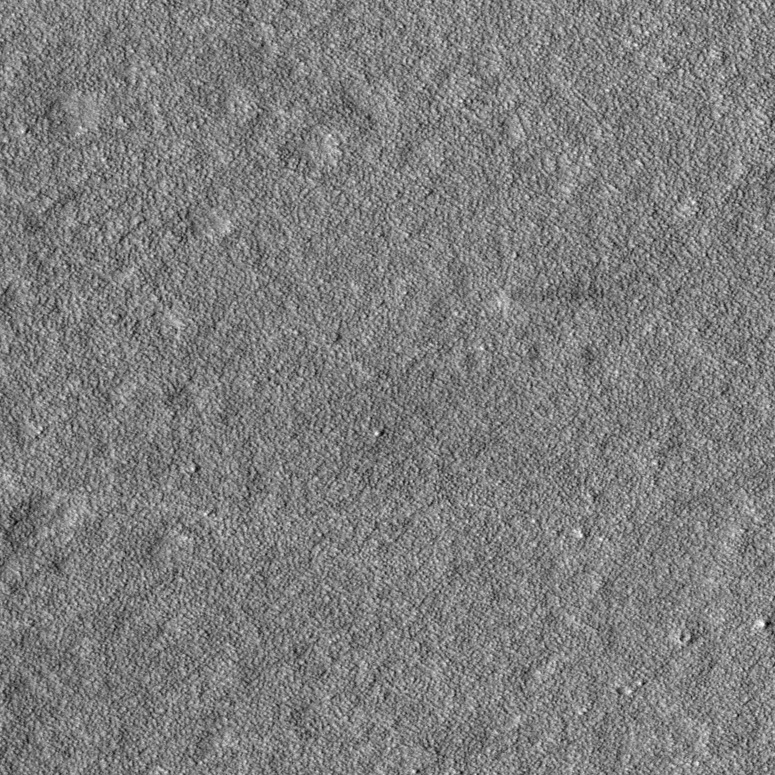dust_devil: (490, 280, 604, 312)
